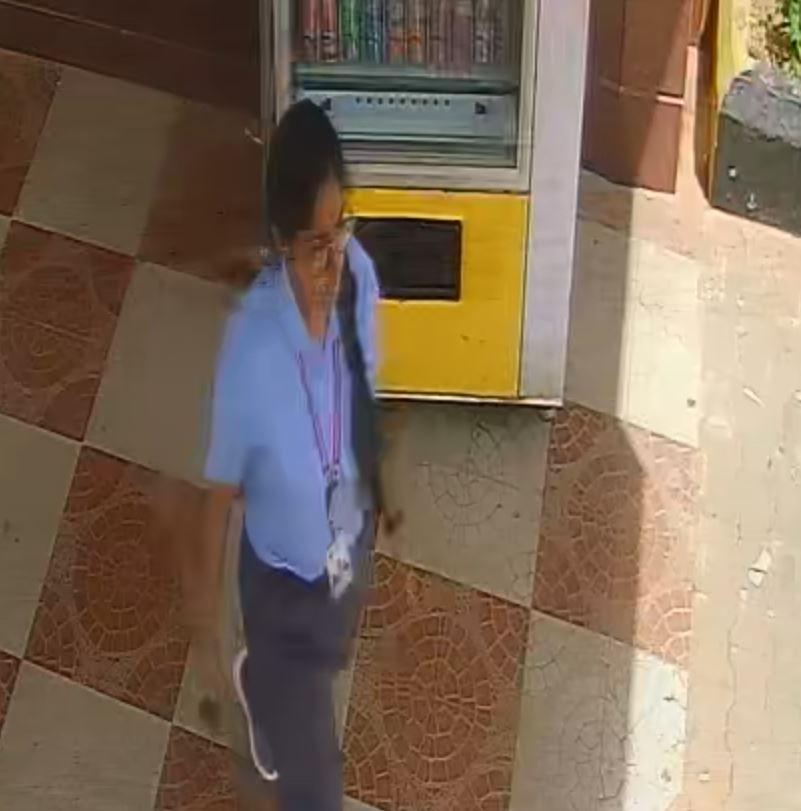not intruder: (215, 95, 384, 811)
